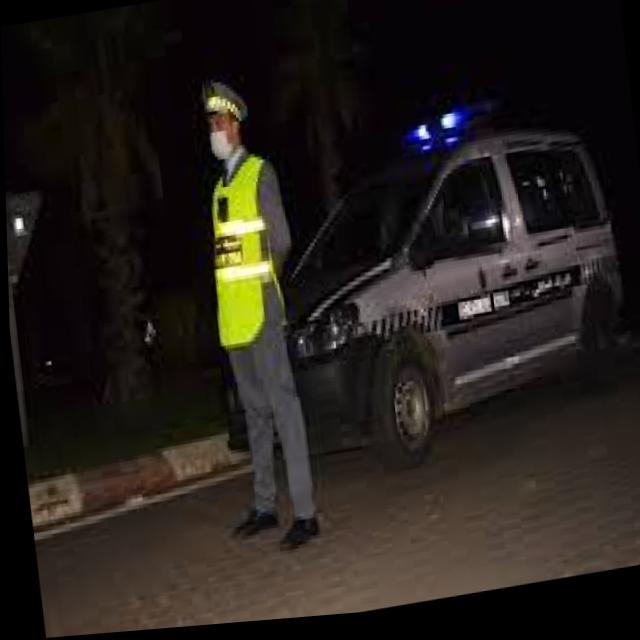gendarme car: (189, 80, 640, 496)
